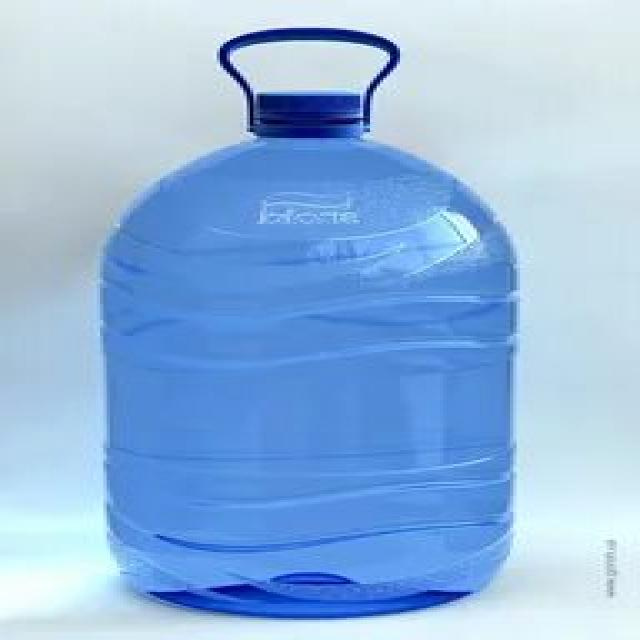blue: (94, 136, 516, 616)
